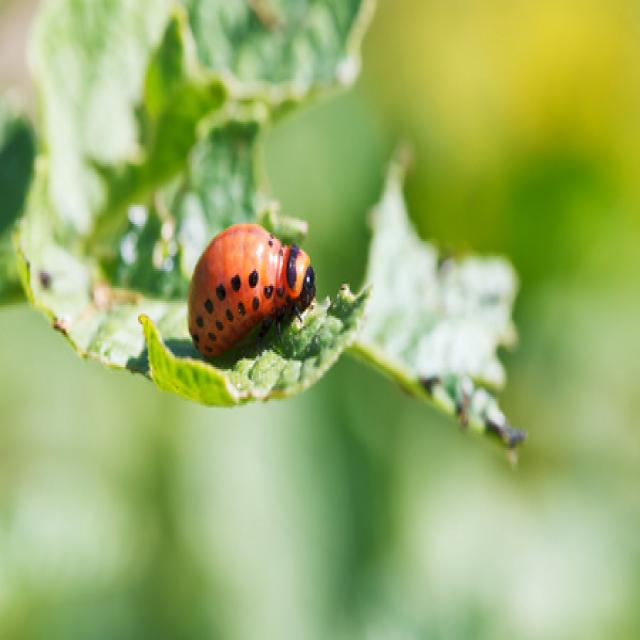ShuCaiHuaBanChong-Larva-: (168, 208, 368, 394)
